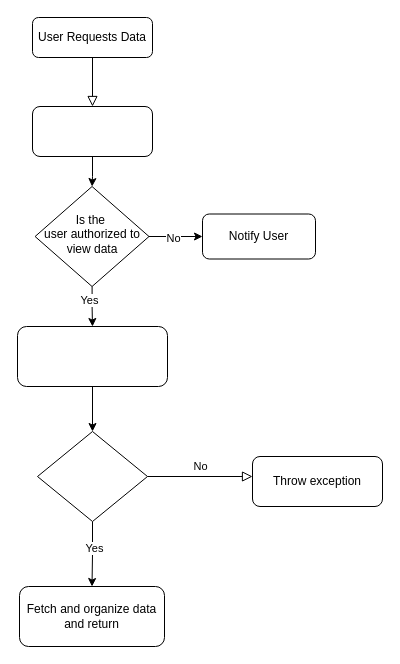
Image size: 400x664. Some labels were removed from this diagram. Here are the shapes that lost their labels. From the top down, the centre of each, then its label:
At (x=92, y=131): "Make request to API".
At (x=92, y=356): "Controller calls any necessary external APIs".
At (x=92, y=476): "Did it succeeed".
